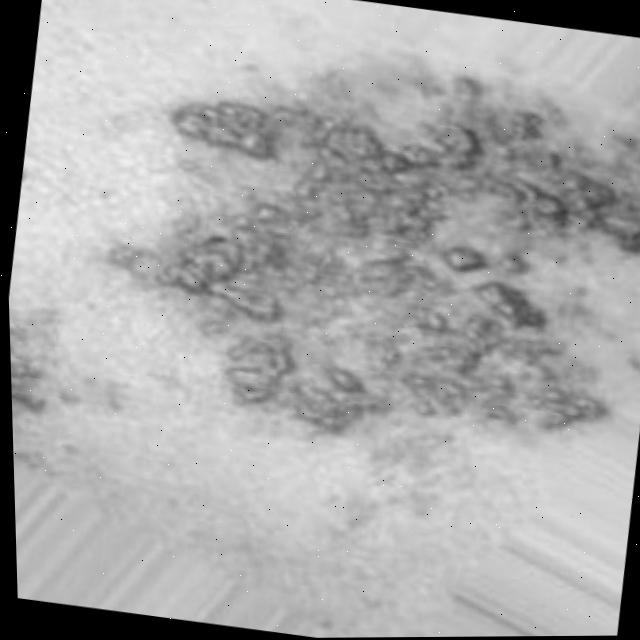Shingles: (111, 42, 640, 476), (9, 319, 68, 432)
